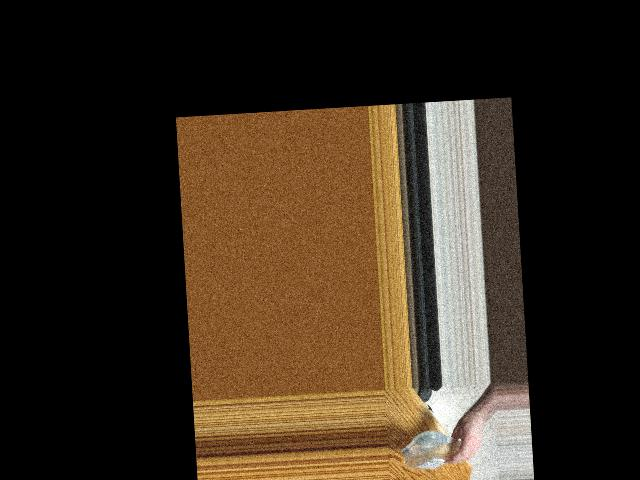cheese: (400, 431, 474, 472)
